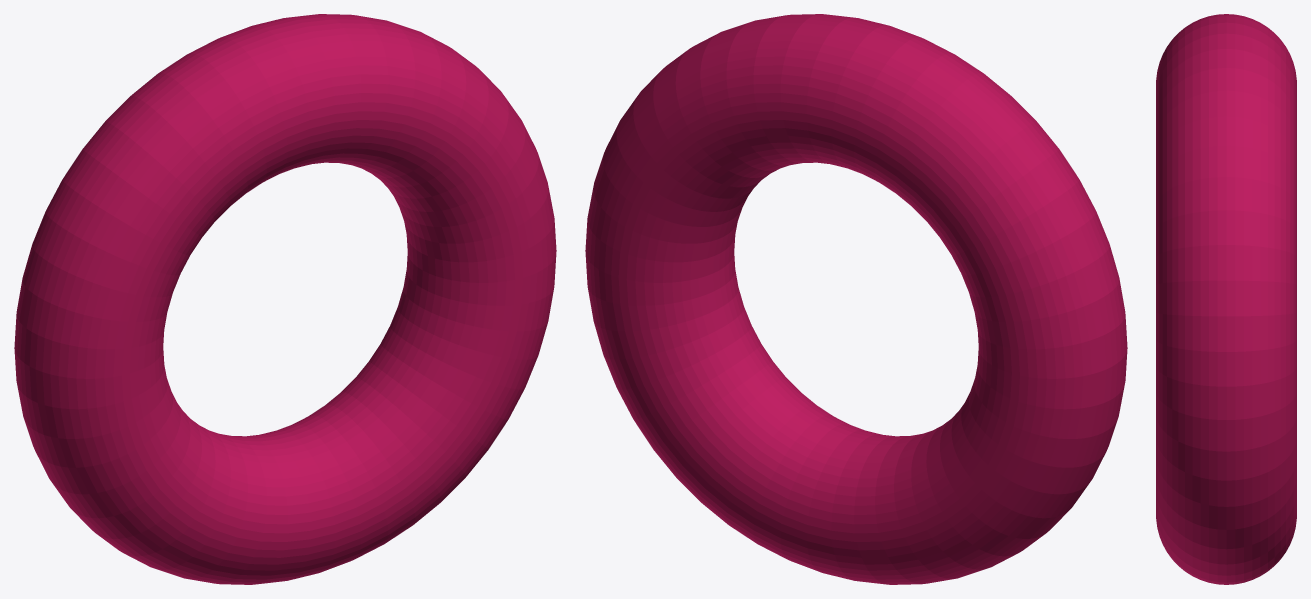
The picture shows the model from 3 angles, left to right: view 1: azimuth 30°, elevation 25°; view 2: azimuth 150°, elevation 25°; view 3: azimuth 270°, elevation 25°; orthographic projection. The views are drawn at different scales.
Parts seen in each view (by area): view 1: world; view 2: world; view 3: world.
Boxes of the visible parts, x1,y1,x2,y2 form: world: [14, 14, 556, 584]; world: [585, 14, 1127, 584]; world: [1156, 14, 1296, 584].
Bounding box in the file's own units: 31.87 × 31.8 × 7.85.
